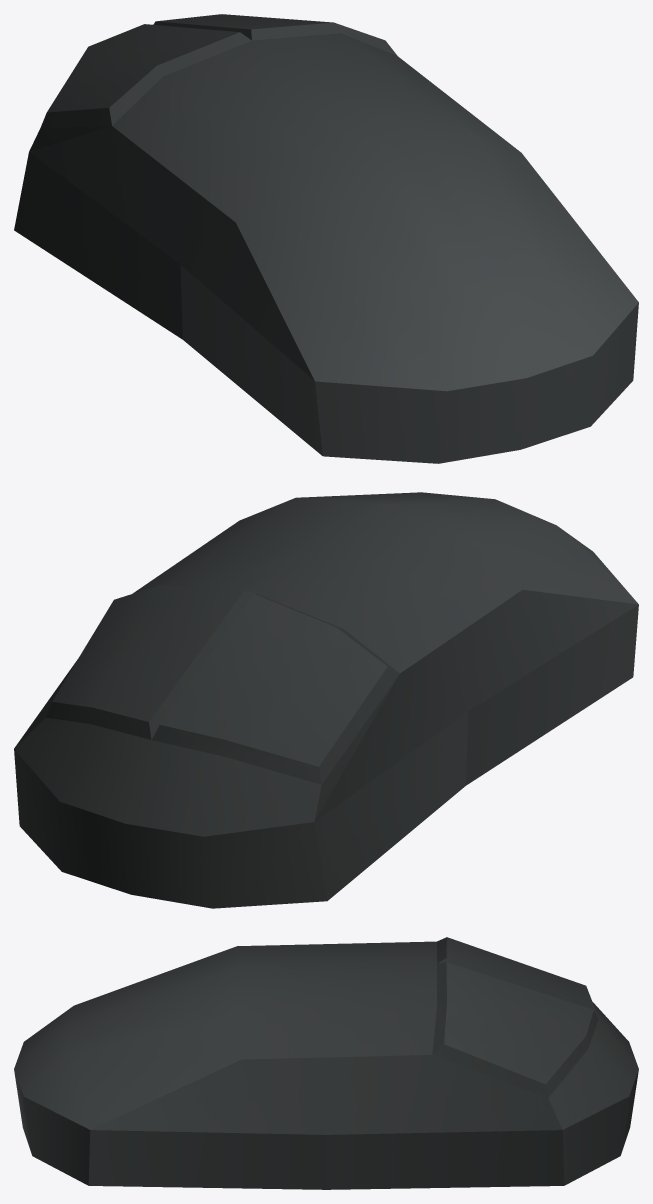
File: CompterMouseRounded.fbx
3 renders of one model, top to bottom at view 1: azimuth 30°, elevation 25°; view 2: azimuth 150°, elevation 25°; view 3: azimuth 270°, elevation 25°, orthographic. The views are drawn at different scales.
Parts seen in each view (by area): view 1: CompterMouseRounded; view 2: CompterMouseRounded; view 3: CompterMouseRounded.
Part boxes in pixels (x1=…): CompterMouseRounded: x1=14, y1=14, x2=638, y2=463; CompterMouseRounded: x1=14, y1=492, x2=638, y2=908; CompterMouseRounded: x1=14, y1=937, x2=638, y2=1189.
Size of the model in its own units: 6.85 by 4.23 by 14.29.
